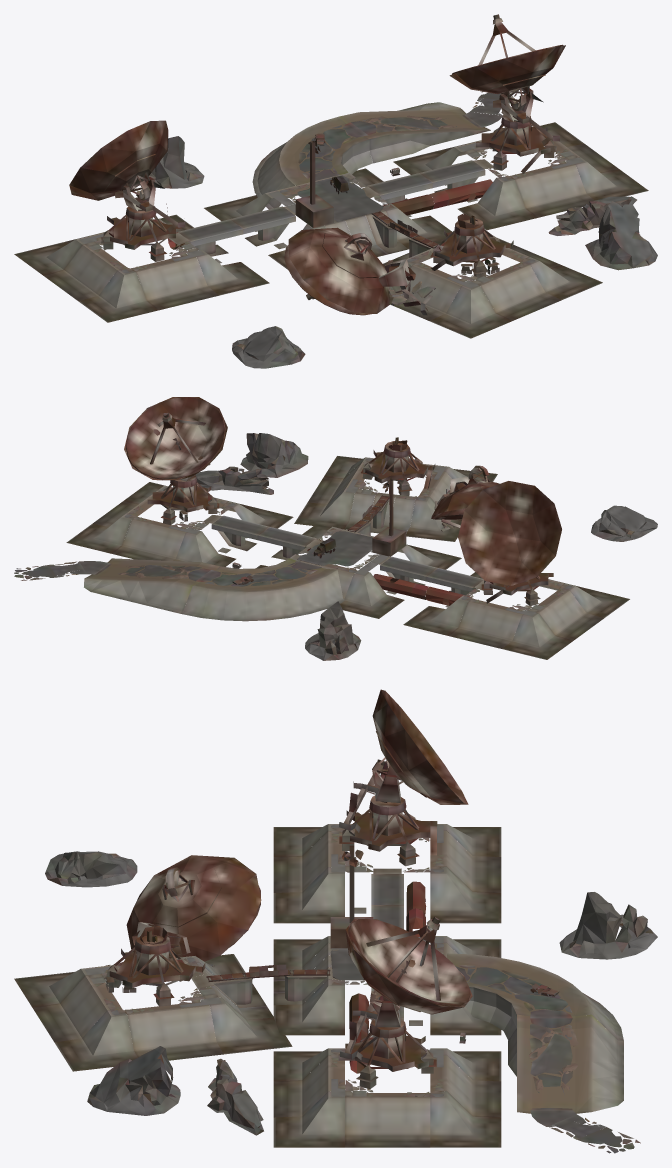
The model's file is satellite_dish-map.glb.
3 views of the same model, one above another, from view 1: azimuth 30°, elevation 25°; view 2: azimuth 150°, elevation 25°; view 3: azimuth 270°, elevation 25° (orthographic). The views are drawn at different scales.
Parts seen in each view (by area): view 1: satellite_dish_hlod; view 2: satellite_dish_hlod; view 3: satellite_dish_hlod.
Boxes of the visible parts, x1,y1,x2,y2 form: satellite_dish_hlod: [14, 14, 657, 368]; satellite_dish_hlod: [14, 397, 657, 660]; satellite_dish_hlod: [14, 689, 657, 1153].
Size of the model in its own units: 163 by 44.74 by 136.
1 material, 1 textured.
